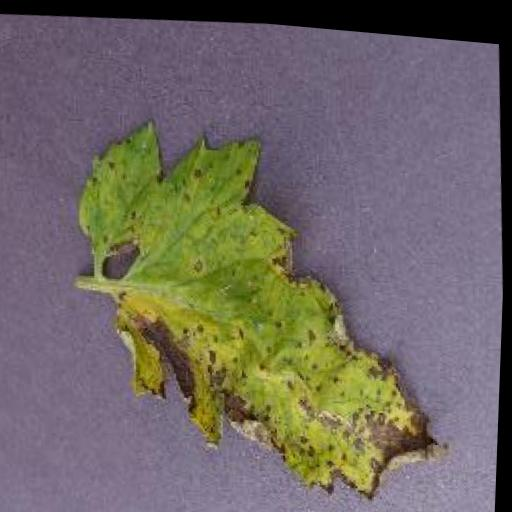Septoria: (63, 89, 467, 512)
